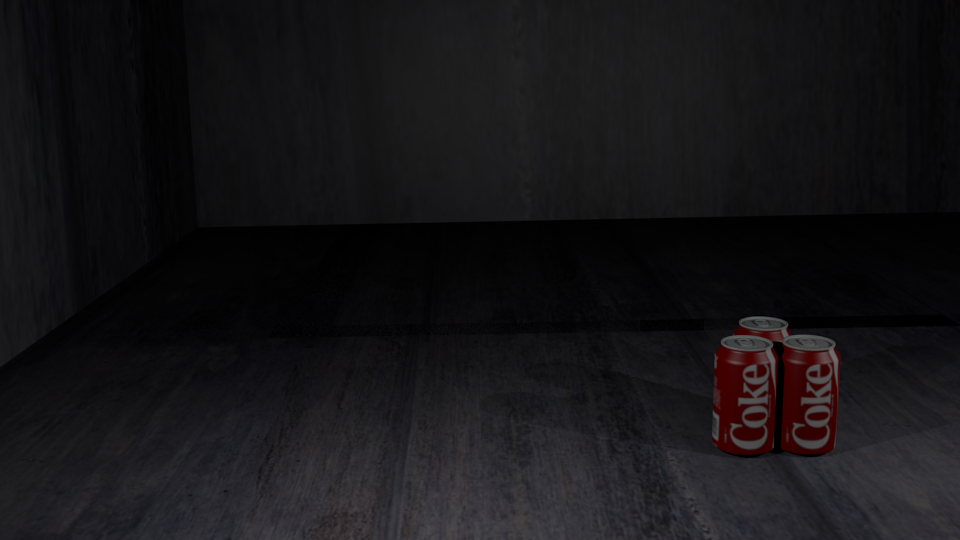cola_can: (714, 335, 777, 452), (776, 335, 839, 450), (734, 317, 792, 426)
